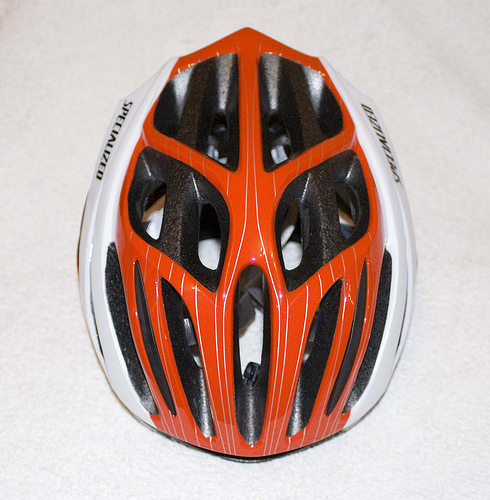helmet: (77, 50, 411, 420)
